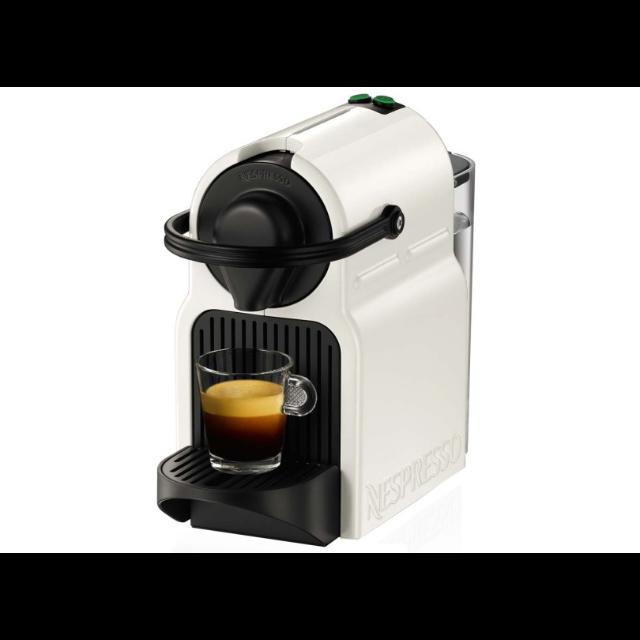Coffee-Machine: (157, 91, 480, 551)
